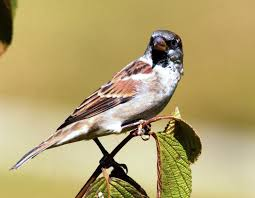hsparrow: (7, 27, 188, 179)
